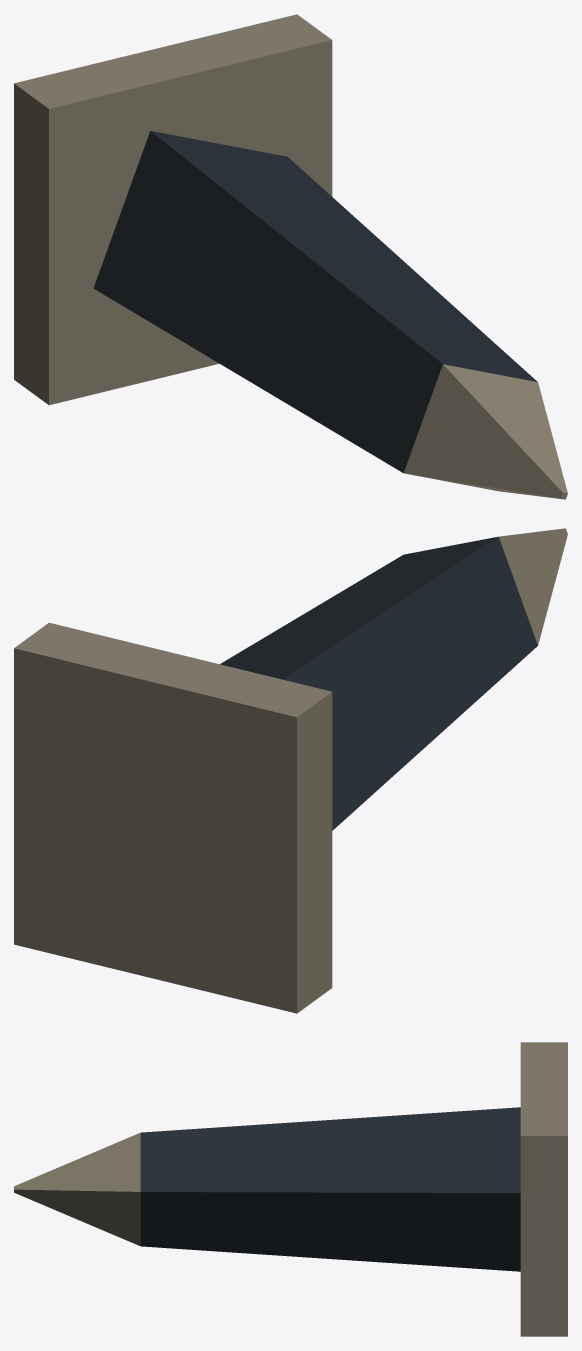
The model's file is SM_AEON_GraveObelisk.obj.
3 views of the same model, one above another, from view 1: azimuth 30°, elevation 25°; view 2: azimuth 150°, elevation 25°; view 3: azimuth 270°, elevation 25° (orthographic). The views are drawn at different scales.
Visible parts, largest first — view 1: SM_AEON_GraveObelisk; view 2: SM_AEON_GraveObelisk; view 3: SM_AEON_GraveObelisk.
Boxes of the visible parts, x1,y1,x2,y2 form: SM_AEON_GraveObelisk: (14,14,567,499); SM_AEON_GraveObelisk: (14,528,567,1013); SM_AEON_GraveObelisk: (14,1042,567,1336).
Bounding box in the file's own units: 140 × 140 × 350.
